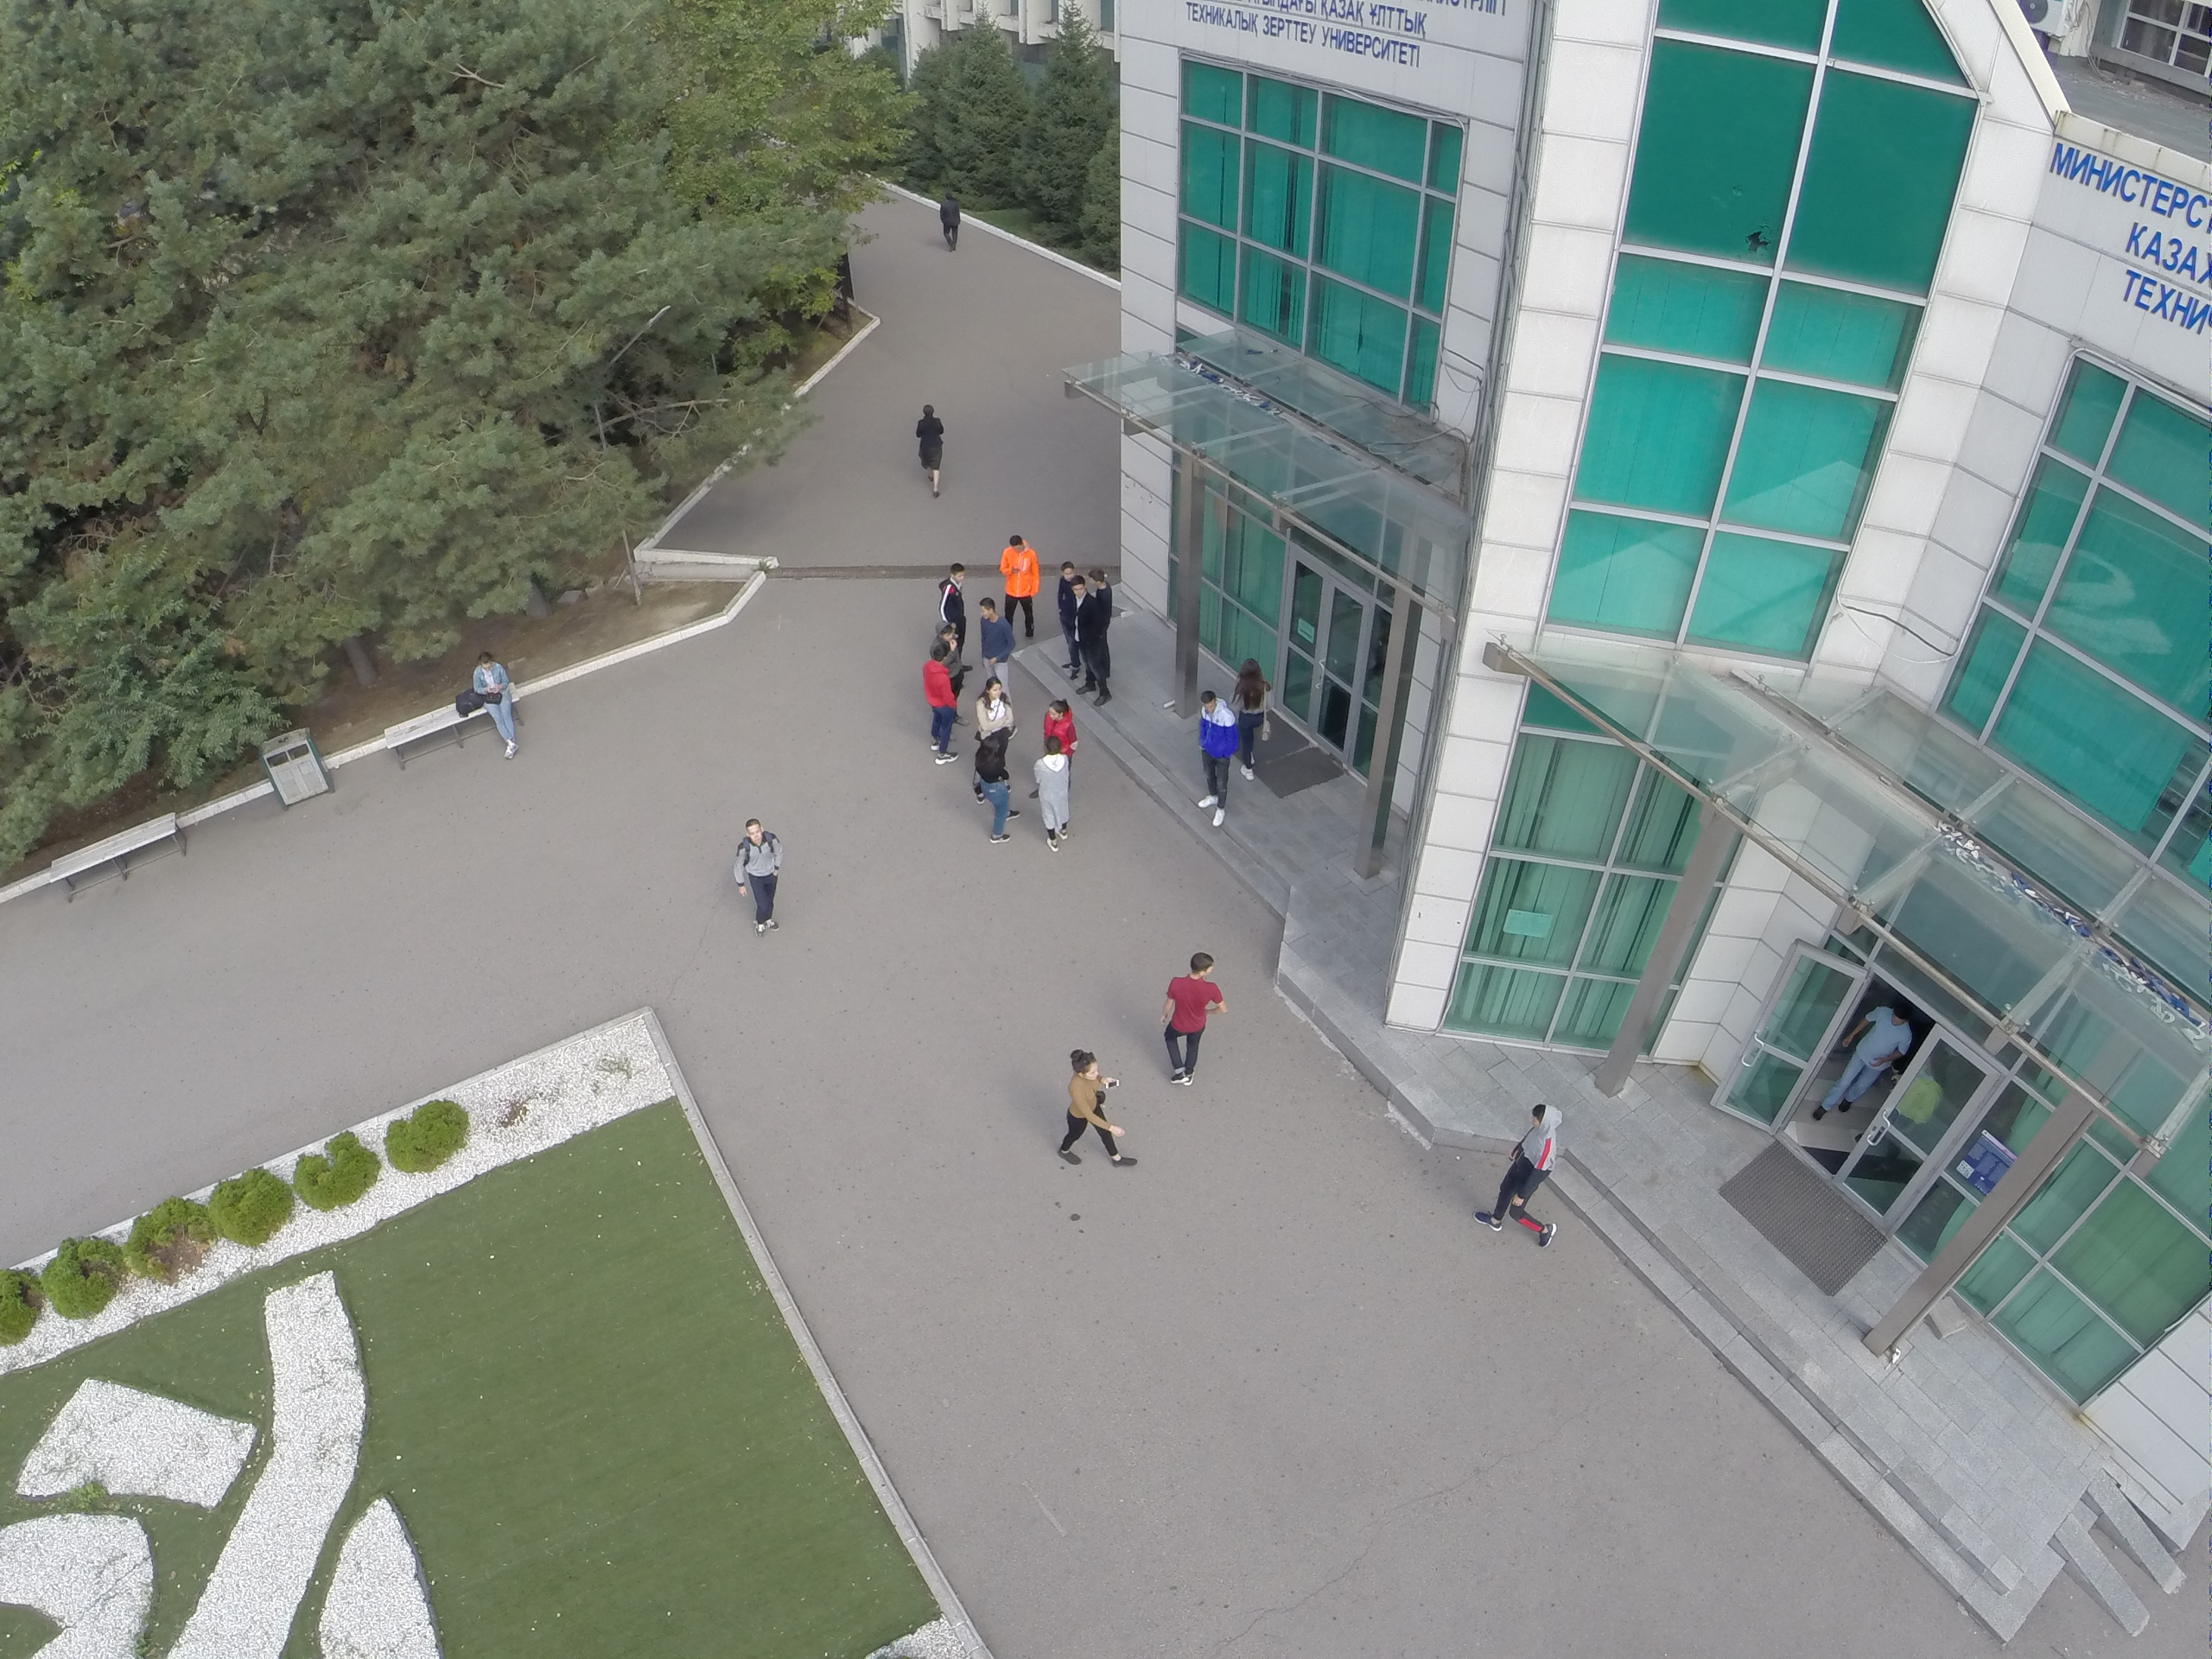person: (1471, 1101, 1567, 1242), (1812, 998, 1908, 1115), (1051, 1044, 1138, 1171), (1147, 950, 1227, 1086), (727, 816, 787, 939), (1198, 690, 1236, 831), (471, 658, 520, 760), (976, 729, 1020, 844), (1236, 662, 1274, 781), (998, 534, 1041, 642), (1035, 736, 1072, 855), (924, 642, 957, 772), (1073, 580, 1107, 707), (906, 402, 946, 499), (970, 599, 1017, 678), (1048, 556, 1075, 673), (936, 566, 975, 624), (1039, 698, 1075, 743), (976, 681, 1010, 724), (1085, 568, 1114, 599)
